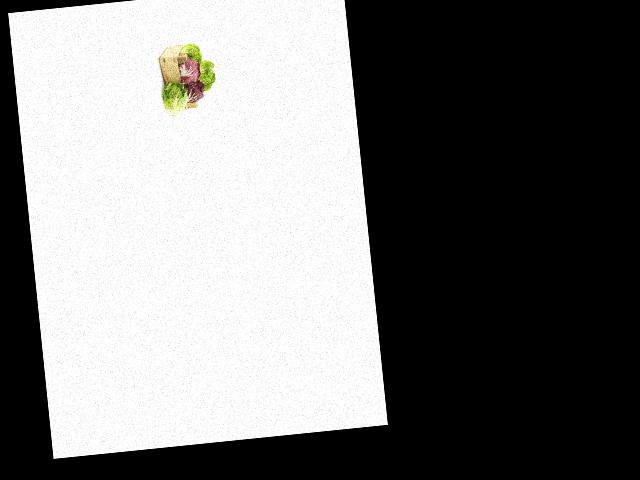lettuce: (192, 59, 217, 92)
